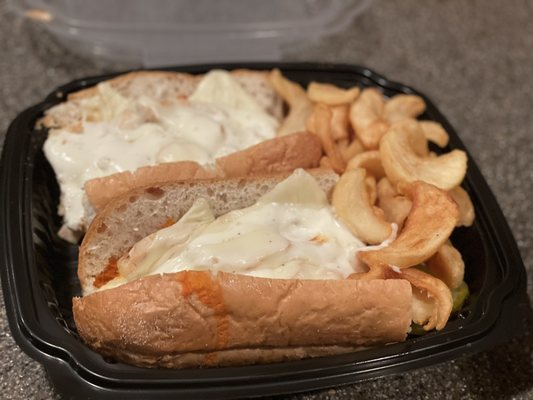sushi: (25, 2, 532, 397), (1, 56, 445, 400)
